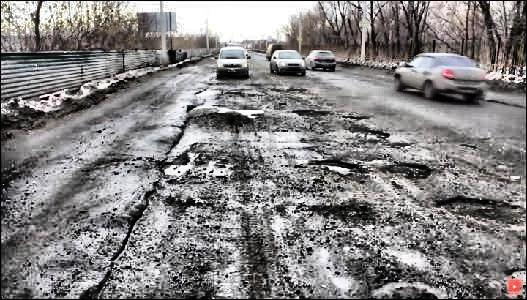pothole: (435, 194, 525, 220), (193, 101, 263, 120), (327, 201, 371, 222), (313, 156, 360, 175), (160, 157, 197, 180), (397, 159, 433, 181), (290, 106, 327, 119), (195, 86, 222, 98), (367, 126, 389, 139), (340, 113, 367, 120), (287, 86, 307, 93)
